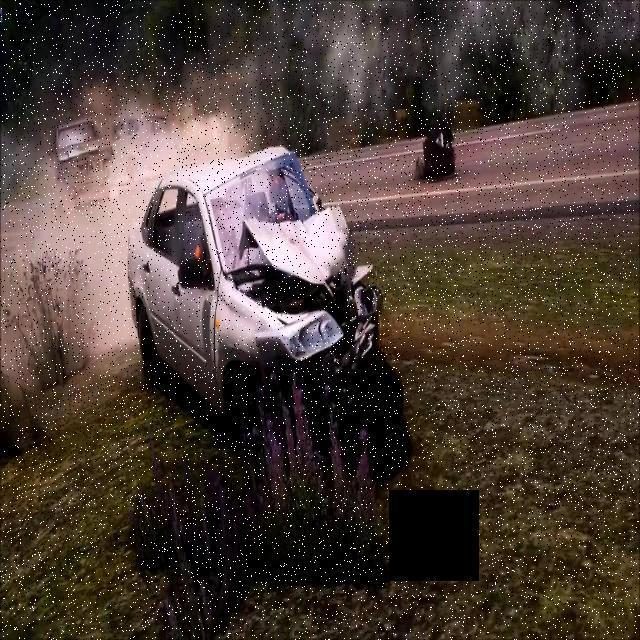vehicle: (118, 90, 336, 425)
